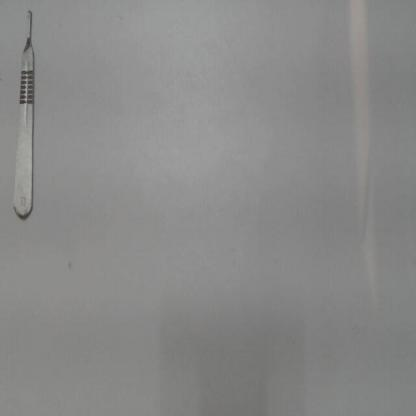No.3 BP Handle: (9, 6, 40, 231)
